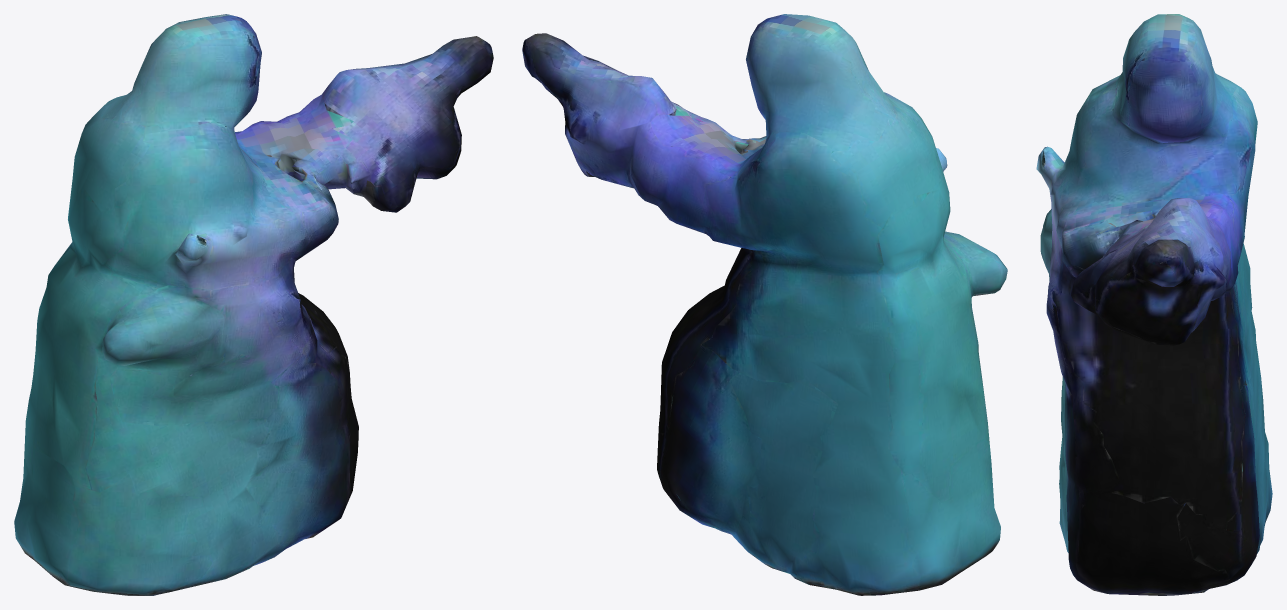
3 views of the same model, side by side, from view 1: azimuth 30°, elevation 25°; view 2: azimuth 150°, elevation 25°; view 3: azimuth 270°, elevation 25° (orthographic). The views are drawn at different scales.
Parts seen in each view (by area): view 1: Mesh_0; view 2: Mesh_0; view 3: Mesh_0.
Boxes of the visible parts, box(x1,y1,x2,y2) form: Mesh_0: box(14, 14, 493, 595); Mesh_0: box(522, 14, 1007, 595); Mesh_0: box(1036, 14, 1272, 595).
Size of the model in its own units: 105 by 120 by 45.55.
1 material, 1 textured.
